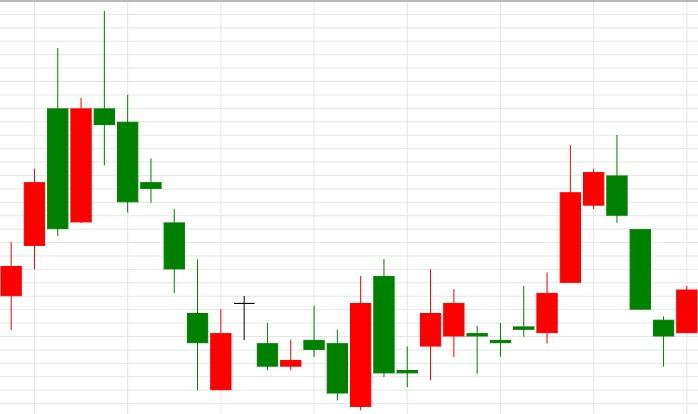three_black_crows_fall: (490, 135, 674, 367)
